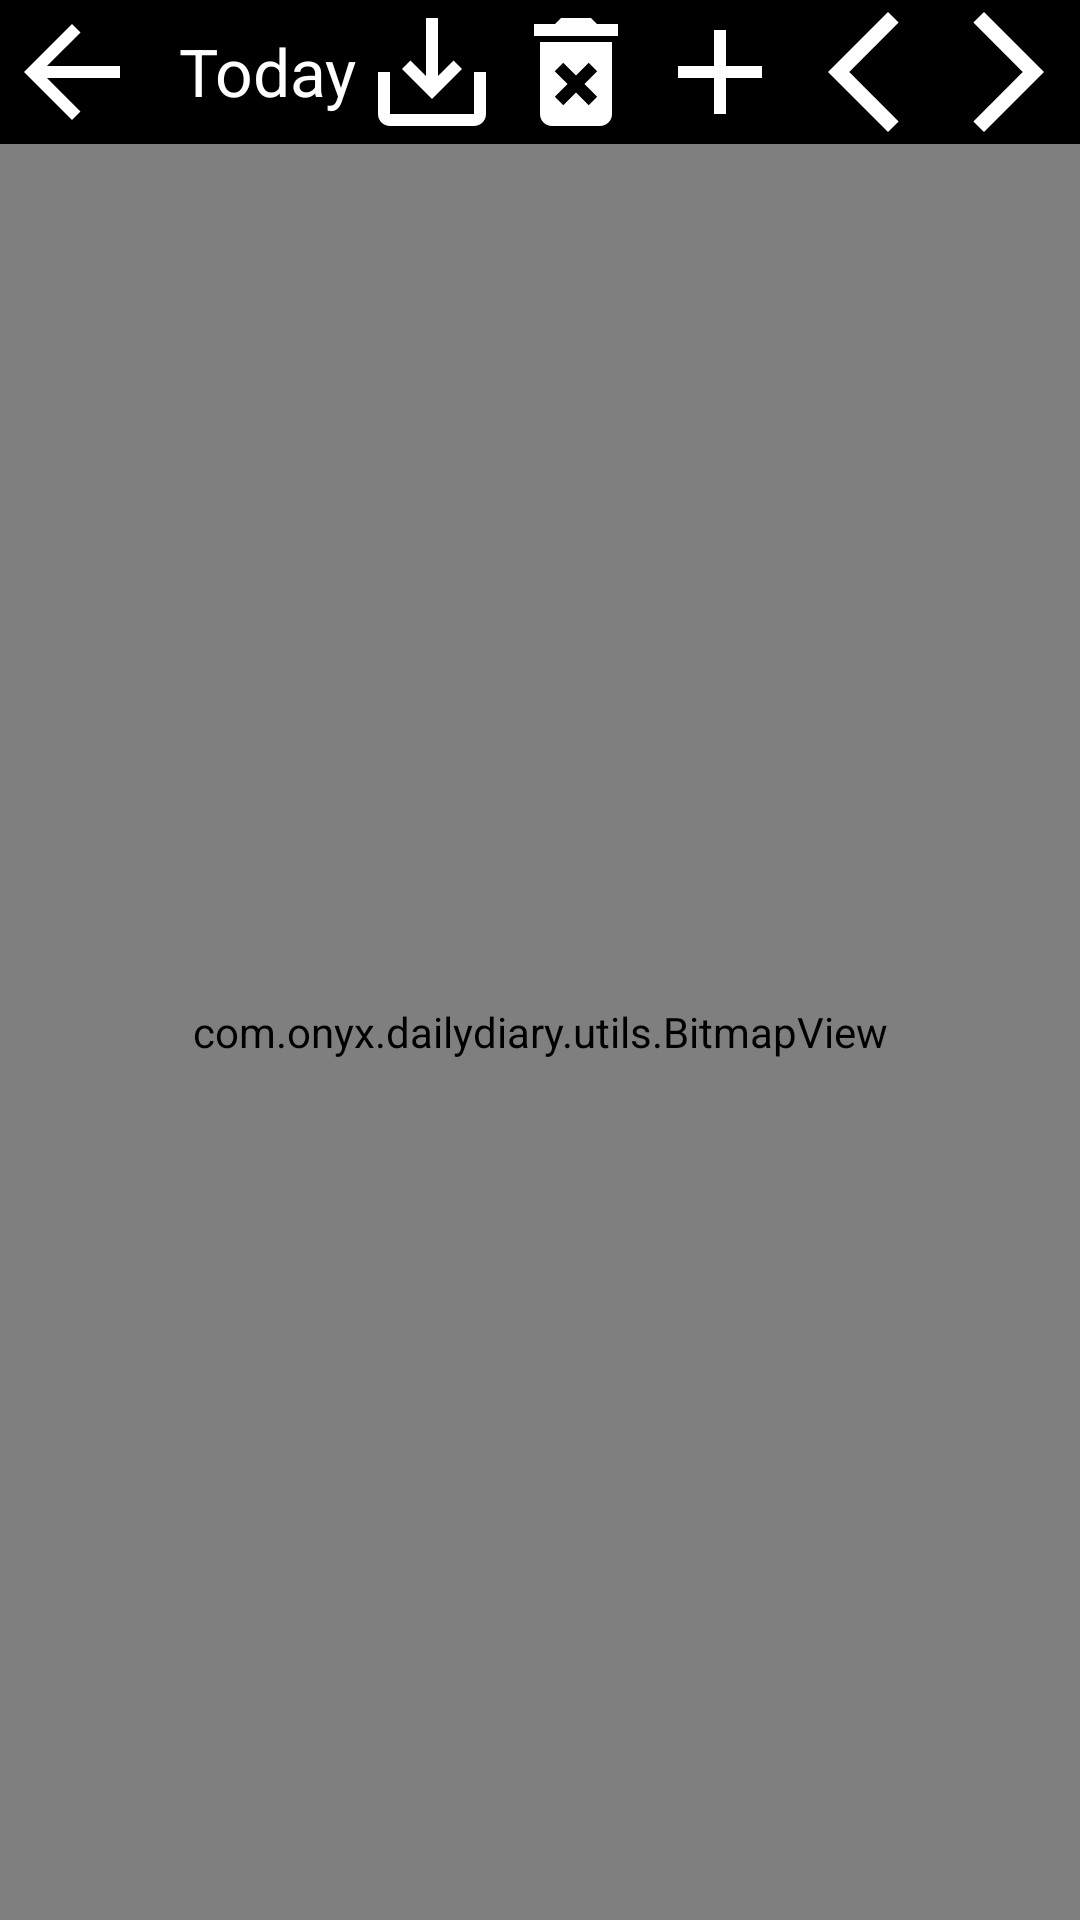

Point at icon controls on the screen. Image size 1080x1920, points as (x,y).
addpage: (720,72)
back: (72,72)
deletepage: (576,72)
nextpage: (1008,72)
prevpage: (863,72)
savepages: (432,72)
